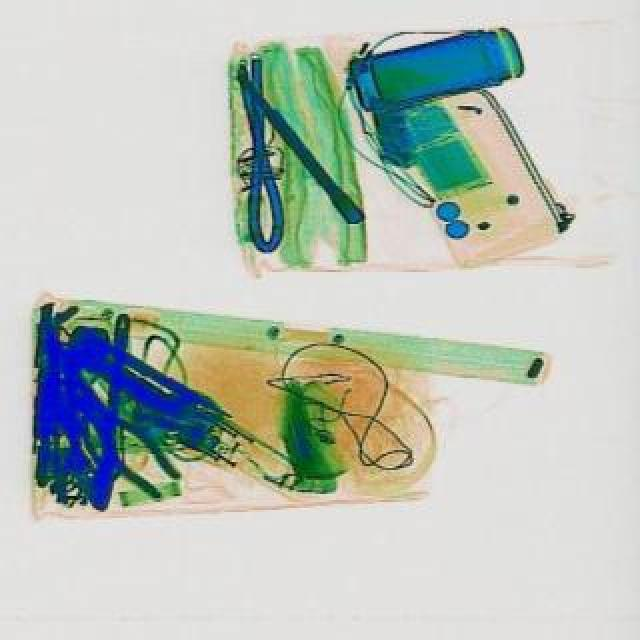scissors: (88, 314, 140, 518)
wrench: (56, 376, 192, 506)
